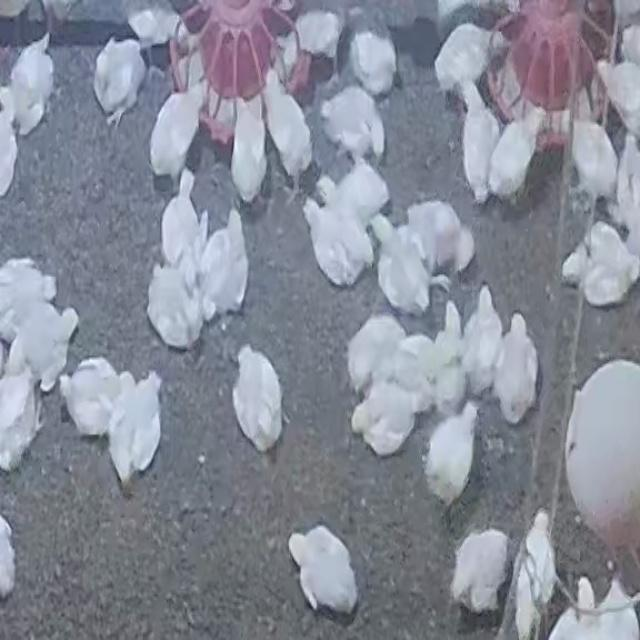chicken: (0, 262, 77, 391), (394, 304, 464, 418), (300, 188, 376, 288), (283, 522, 362, 618), (104, 369, 165, 493), (227, 339, 290, 454), (508, 513, 560, 639), (563, 220, 639, 306), (371, 217, 434, 315), (450, 521, 514, 617), (262, 72, 313, 189), (198, 207, 249, 321), (408, 199, 478, 282), (148, 84, 205, 185), (351, 378, 421, 459), (318, 85, 387, 166), (344, 314, 408, 400), (144, 262, 205, 352), (458, 82, 502, 205), (426, 400, 478, 502), (58, 357, 122, 439), (0, 353, 44, 472), (432, 22, 499, 100), (459, 287, 504, 401), (487, 105, 538, 205), (92, 35, 148, 126), (496, 305, 539, 421), (8, 32, 55, 137), (326, 158, 388, 230), (567, 116, 620, 200), (160, 169, 202, 273), (228, 96, 268, 205), (594, 56, 640, 142), (347, 23, 397, 96)
